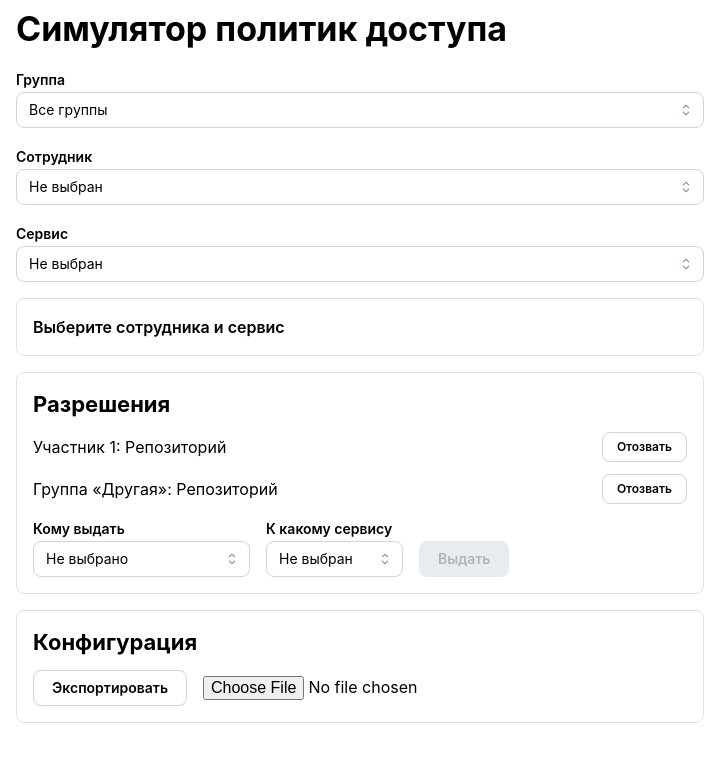
экран расчёта доступа › объясняет пустую группу и возвращает полный список после очистки фильтра
Select "Пустая" in the dropdown labelled "Группа" at x=360, y=110, box top-left (16, 92), bottom-right (704, 128)
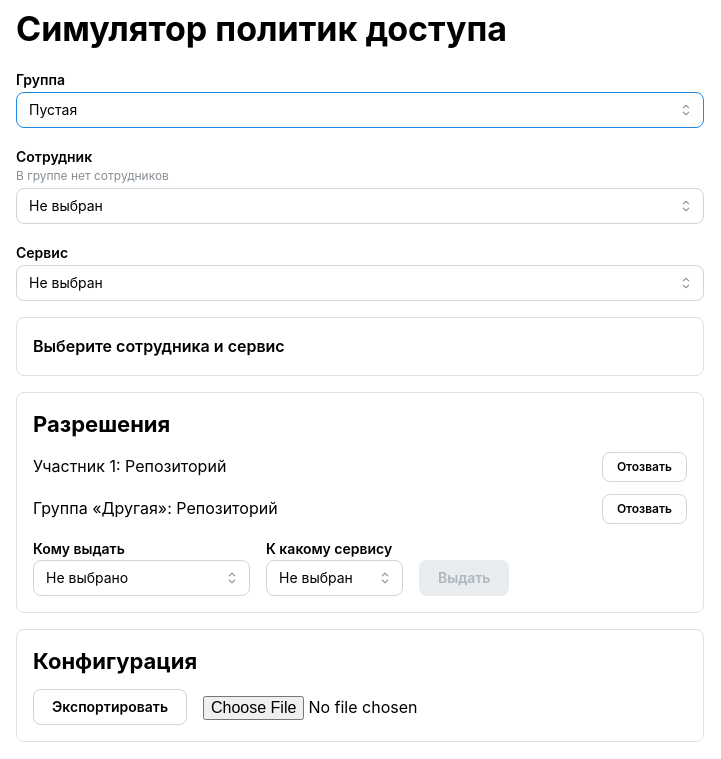
Check: the text "В группе нет сотрудников" is shown, box top-left (16, 168), bottom-right (169, 183)
Select "Все группы" in the dropdown labelled "Группа" at x=360, y=110, box top-left (16, 92), bottom-right (704, 128)
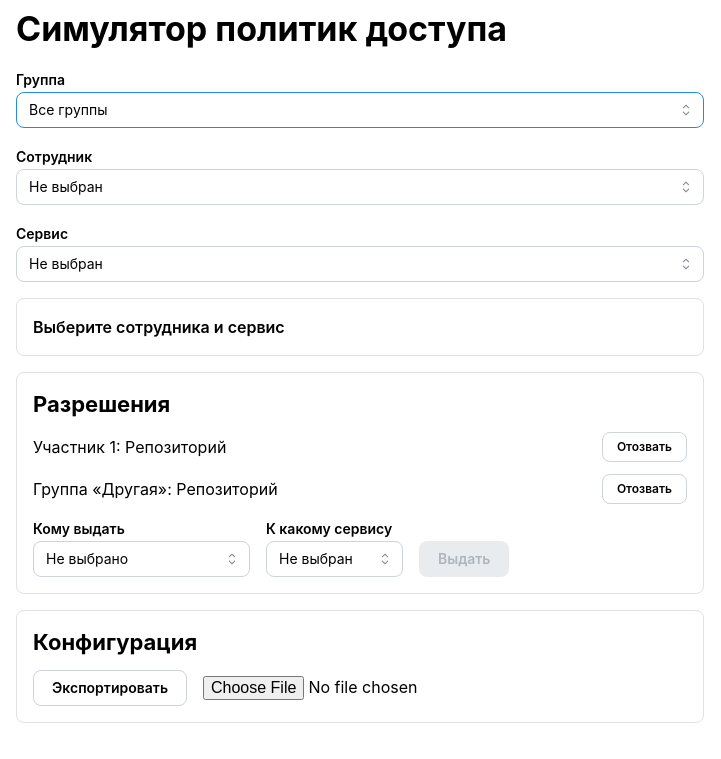
Check: the text "В группе нет сотрудников" is gone
